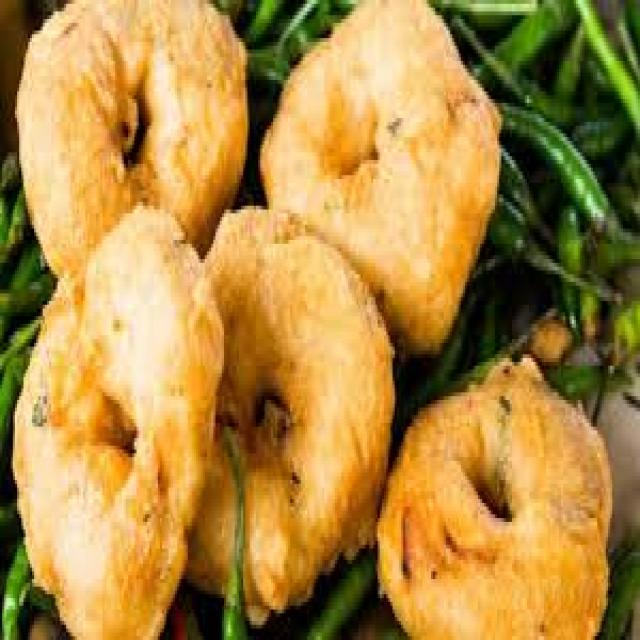MEDU VADA: (207, 0, 499, 602), (378, 354, 606, 636)
